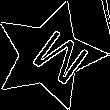M_SW: (14, 21, 85, 89)
